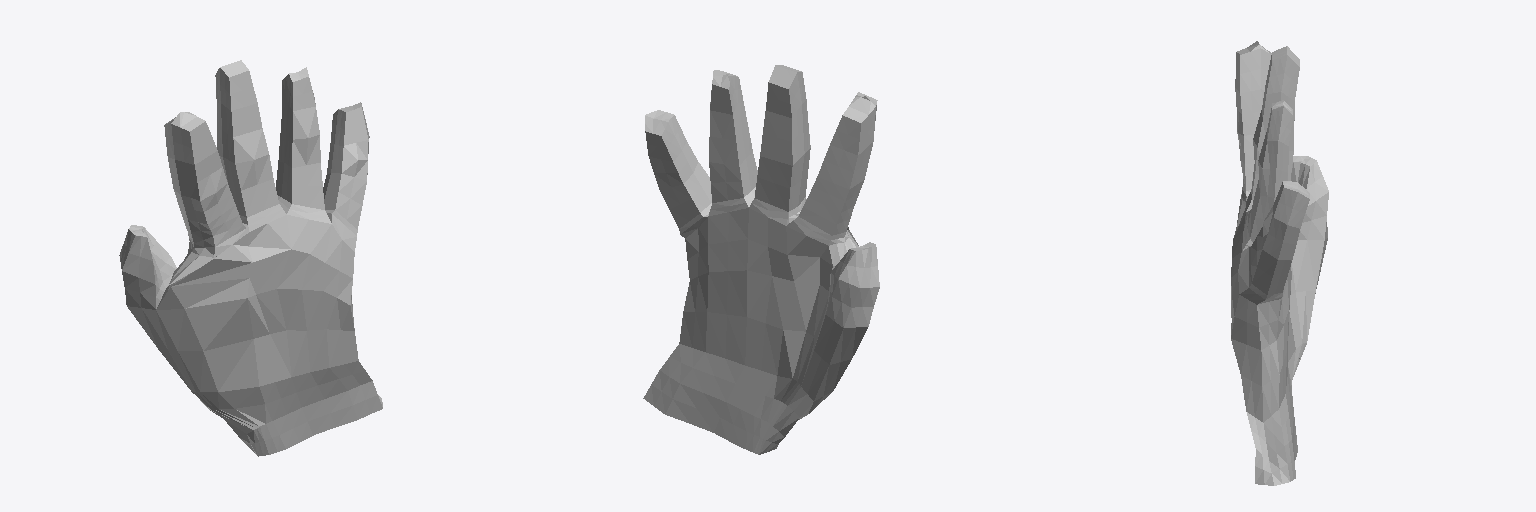
Rendered from flexion0002.obj.
The picture shows the model from 3 angles: view 1: azimuth 30°, elevation 25°; view 2: azimuth 150°, elevation 25°; view 3: azimuth 270°, elevation 25°; orthographic projection.
Parts seen in each view (by area): view 1: Hand; view 2: Hand; view 3: Hand.
Boxes of the visible parts, x1,y1,x2,y2 form: Hand: [119, 60, 382, 456]; Hand: [643, 65, 879, 454]; Hand: [1231, 41, 1328, 485].
Size of the model in its own units: 3.27 by 4.97 by 1.13.